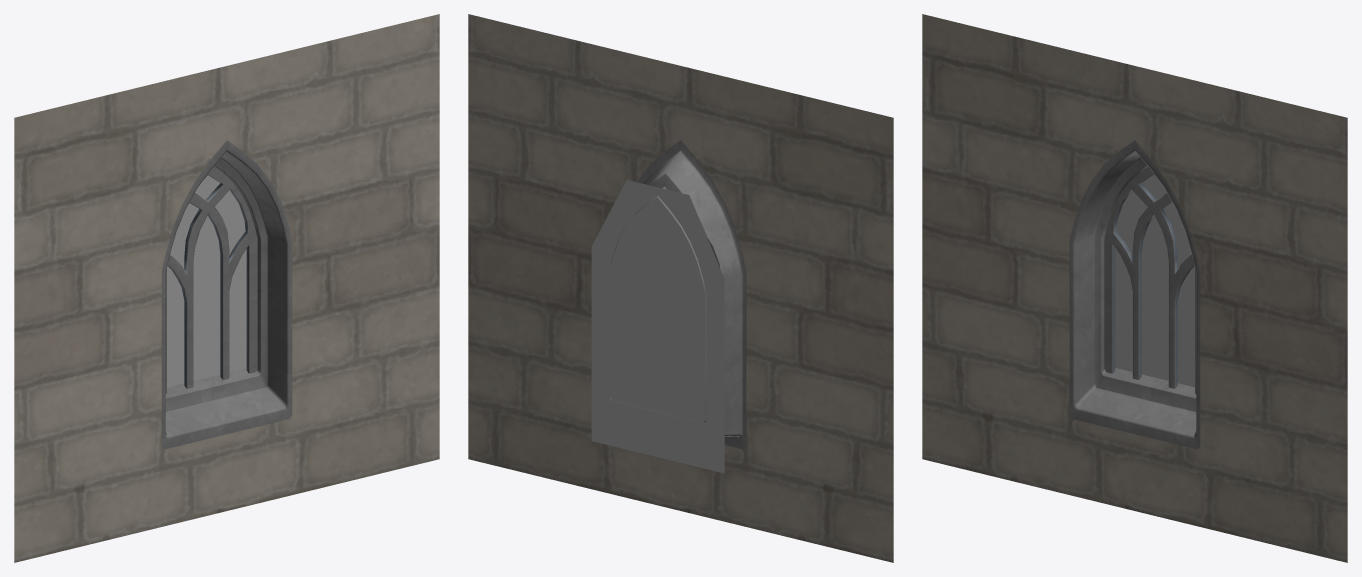
The model's file is Wall_FlushWindow.fbx.
3 renders of one model, left to right at view 1: azimuth 30°, elevation 25°; view 2: azimuth 150°, elevation 25°; view 3: azimuth 330°, elevation 25°, orthographic.
Parts seen in each view (by area): view 1: Wall_FlushWindow; view 2: Wall_FlushWindow; view 3: Wall_FlushWindow.
Boxes of the visible parts, x1,y1,x2,y2 form: Wall_FlushWindow: (14, 14, 439, 562); Wall_FlushWindow: (468, 14, 893, 562); Wall_FlushWindow: (922, 14, 1347, 562).
Bounding box in the file's own units: 500 × 500 × 48.41.
4 materials, 3 textured.
